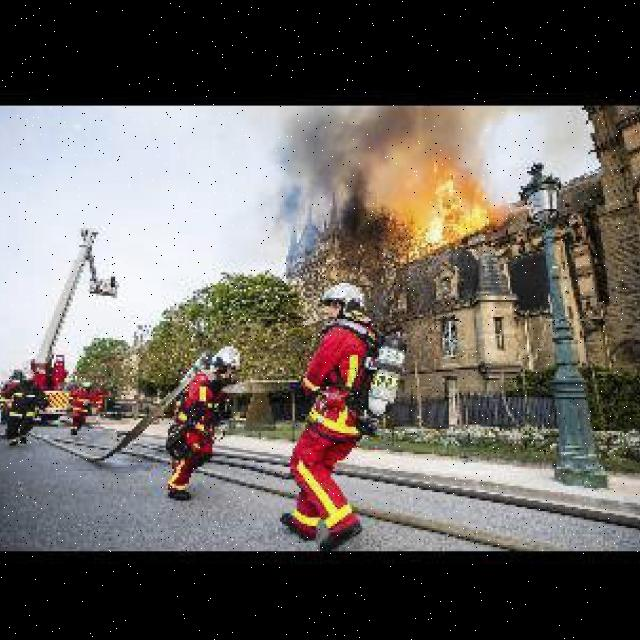fire: (406, 156, 499, 250)
smoke: (250, 105, 400, 238)
